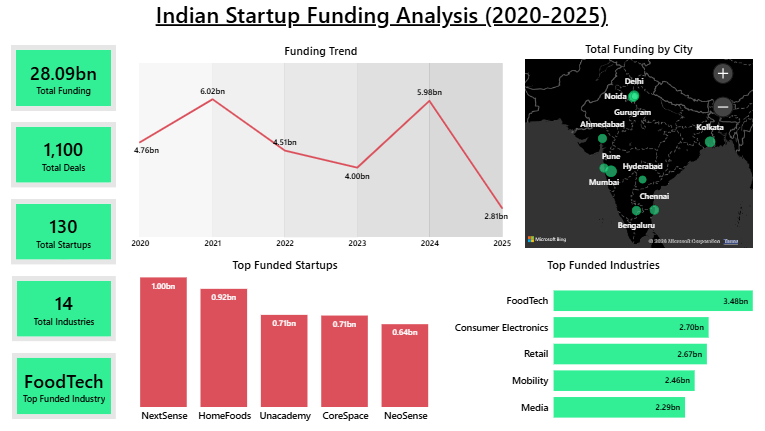

Layout of this report page (visuals, bound fields, positions):
{"tool":"powerbi","page":{"name":"Executive Overview","canvas":[1280,720],"ordinal":0},"visuals":[{"type":"shape","box":[718,106,123,290],"z":0},{"type":"shape","box":[598,106,121,290],"z":1000},{"type":"shape","box":[476,106,122,290.6],"z":2000},{"type":"shape","box":[235.1,106.3,122,290],"z":3000},{"type":"shape","box":[356.8,106,121,290],"z":4000},{"type":"cardVisual","fields":{"Data":["startup_funding.Total Funding"]},"box":[21.7,76.7,175,110],"z":5000},{"type":"cardVisual","fields":{"Data":["startup_funding.Total Deals"]},"box":[22.3,205.8,175.4,109.2],"z":6000},{"type":"cardVisual","fields":{"Data":["startup_funding.Total Industries"]},"box":[23.1,462.4,173.8,109.2],"z":7000},{"type":"cardVisual","fields":{"Data":["Min(startup_funding.Industry)"]},"box":[23.1,590.8,173.8,110.8],"z":8000},{"type":"cardVisual","fields":{"Data":["startup_funding.Total Startups"]},"box":[22.3,334.1,175.4,109.2],"z":9000},{"type":"lineChart","title":"Funding Trend","fields":{"Category":["startup_funding.Date.Variation.Date Hierarchy.Year"],"Y":["startup_funding.Total Funding"]},"box":[221.9,73.3,633.3,346.7],"z":10000},{"type":"clusteredBarChart","title":"Top Funded Industries","fields":{"Category":["startup_funding.Industry"],"Y":["startup_funding.Total Funding"]},"box":[760,430,498.3,286.7],"z":11000},{"type":"map","fields":{"Category":["startup_funding.City"],"Size":["startup_funding.Total Funding"]},"box":[878.3,70,380,345],"z":12000},{"type":"textbox","box":[212.1,0,855.7,60],"z":13000},{"type":"columnChart","title":"Top Funded Startups","fields":{"Y":["startup_funding.Total Funding"],"Category":["startup_funding.Startup"]},"box":[196.7,430,563.3,280],"z":14000}]}

Visuals, with their boxes in screenshot pixels (x1, y1, x2, y2), scaled from the page's 1280x720 canvas onto the 765x431 screenshot:
shape: (left=429, top=63, right=503, bottom=237)
shape: (left=357, top=63, right=430, bottom=237)
shape: (left=284, top=63, right=357, bottom=237)
shape: (left=141, top=64, right=213, bottom=237)
shape: (left=213, top=63, right=286, bottom=237)
cardVisual - startup_funding.Total Funding: (left=13, top=46, right=118, bottom=112)
cardVisual - startup_funding.Total Deals: (left=13, top=123, right=118, bottom=189)
cardVisual - startup_funding.Total Industries: (left=14, top=277, right=118, bottom=342)
cardVisual - Min(startup_funding.Industry): (left=14, top=354, right=118, bottom=420)
cardVisual - startup_funding.Total Startups: (left=13, top=200, right=118, bottom=265)
"Funding Trend" lineChart: (left=133, top=44, right=511, bottom=251)
"Top Funded Industries" clusteredBarChart: (left=454, top=257, right=752, bottom=429)
map - startup_funding.City x startup_funding.Total Funding: (left=525, top=42, right=752, bottom=248)
textbox: (left=127, top=0, right=638, bottom=36)
"Top Funded Startups" columnChart: (left=118, top=257, right=454, bottom=425)
